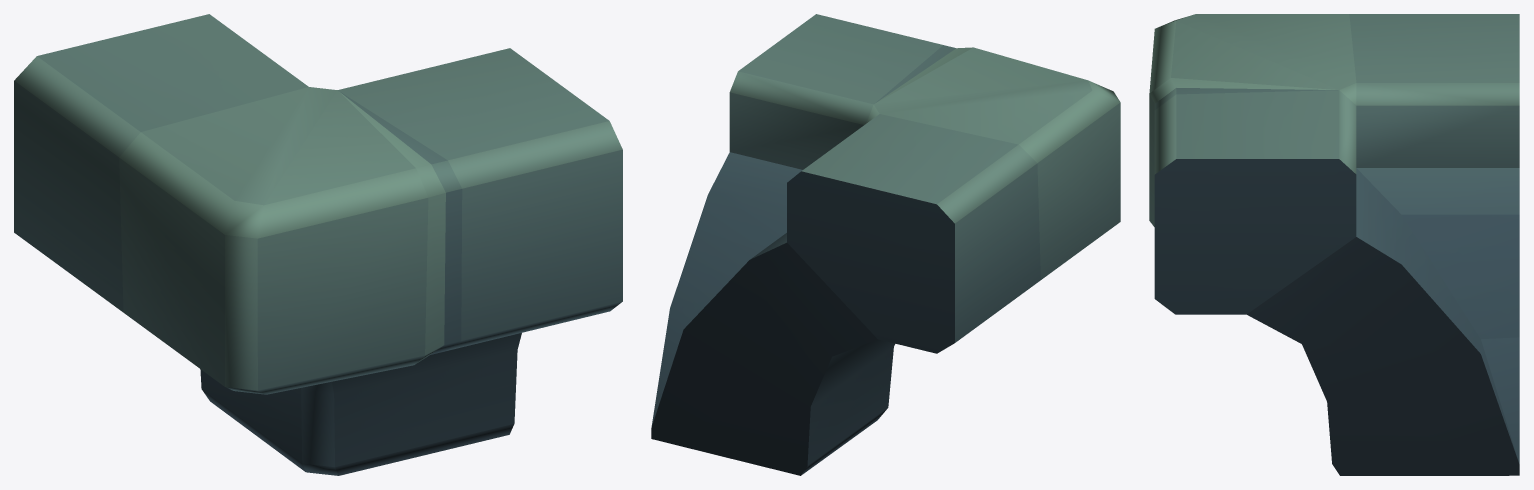
The model's file is wall_corner_convex_top.fbx.
3 views of the same model, side by side, from view 1: azimuth 30°, elevation 25°; view 2: azimuth 150°, elevation 25°; view 3: azimuth 270°, elevation 25° (orthographic). The views are drawn at different scales.
Visible parts, largest first — view 1: wall_corner_convex_top; view 2: wall_corner_convex_top; view 3: wall_corner_convex_top.
Part boxes in pixels (box(x1,y1,x2,y2)): wall_corner_convex_top: box(14, 14, 622, 475); wall_corner_convex_top: box(651, 14, 1120, 475); wall_corner_convex_top: box(1149, 14, 1519, 475).
Bounding box in the file's own units: 213 × 206 × 216.
